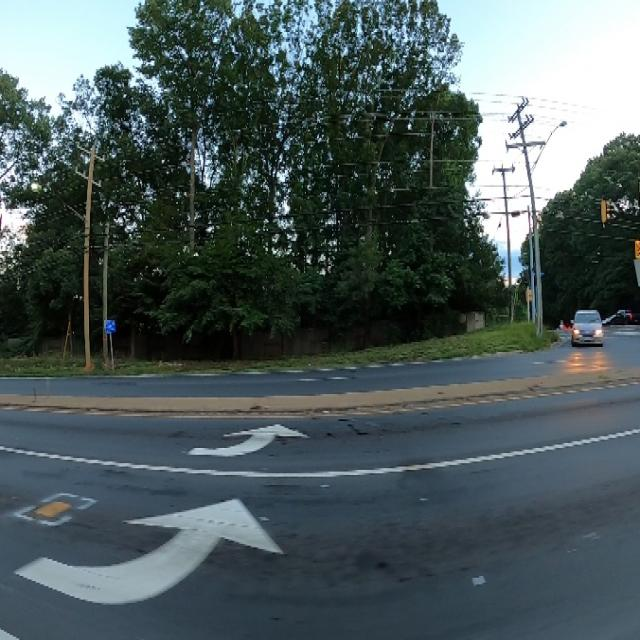car: (564, 303, 616, 362)
